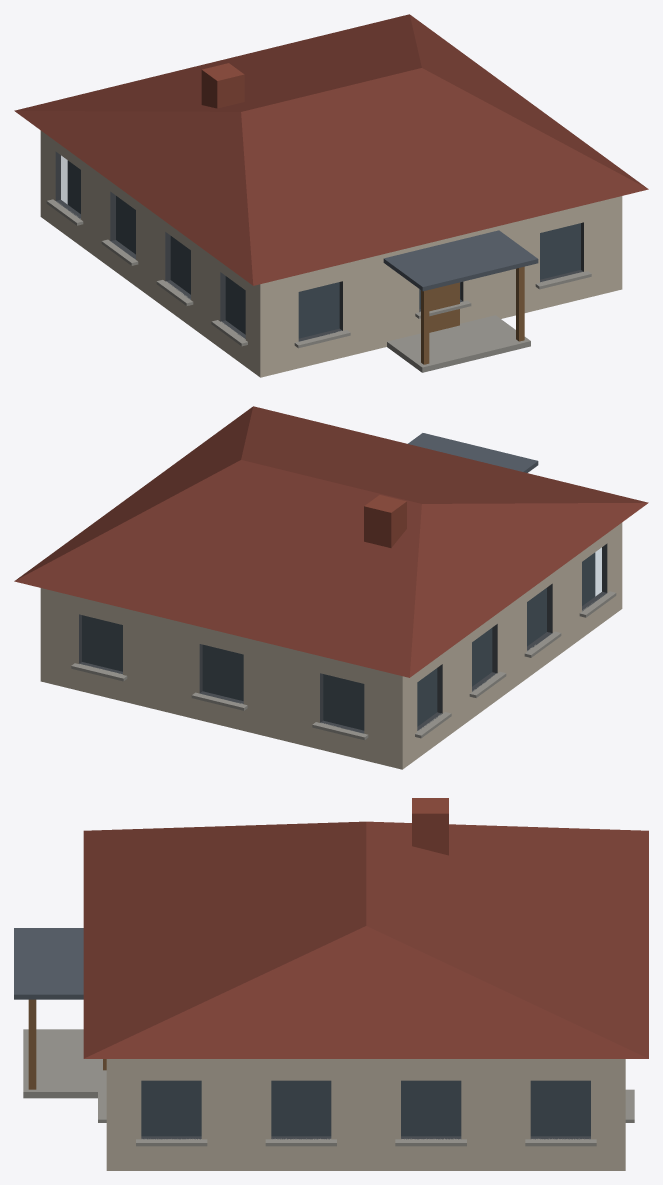
File: house-2.glb
3 views of the same model, one above another, from view 1: azimuth 30°, elevation 25°; view 2: azimuth 150°, elevation 25°; view 3: azimuth 270°, elevation 25° (orthographic). The views are drawn at different scales.
Visible parts, largest first — view 1: house-2; view 2: house-2; view 3: house-2.
Part boxes in pixels (x1,y1,x2,y2): house-2: [14, 14, 648, 377]; house-2: [14, 406, 648, 769]; house-2: [14, 798, 648, 1170].
Size of the model in its own units: 11.65 by 5.1 by 13.7.
